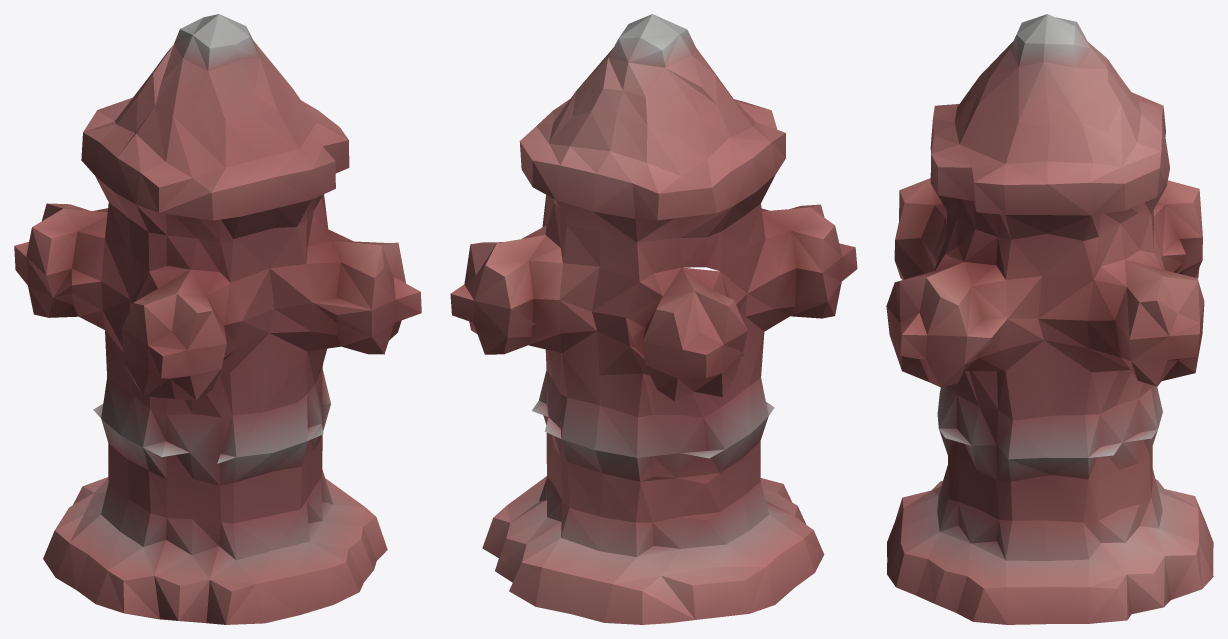
File: prop_hidrante.glb
The picture shows the model from 3 angles, left to right: view 1: azimuth 30°, elevation 25°; view 2: azimuth 150°, elevation 25°; view 3: azimuth 270°, elevation 25°; orthographic projection.
Bounding box in the file's own units: 0.5245 × 0.9804 × 0.5248.
